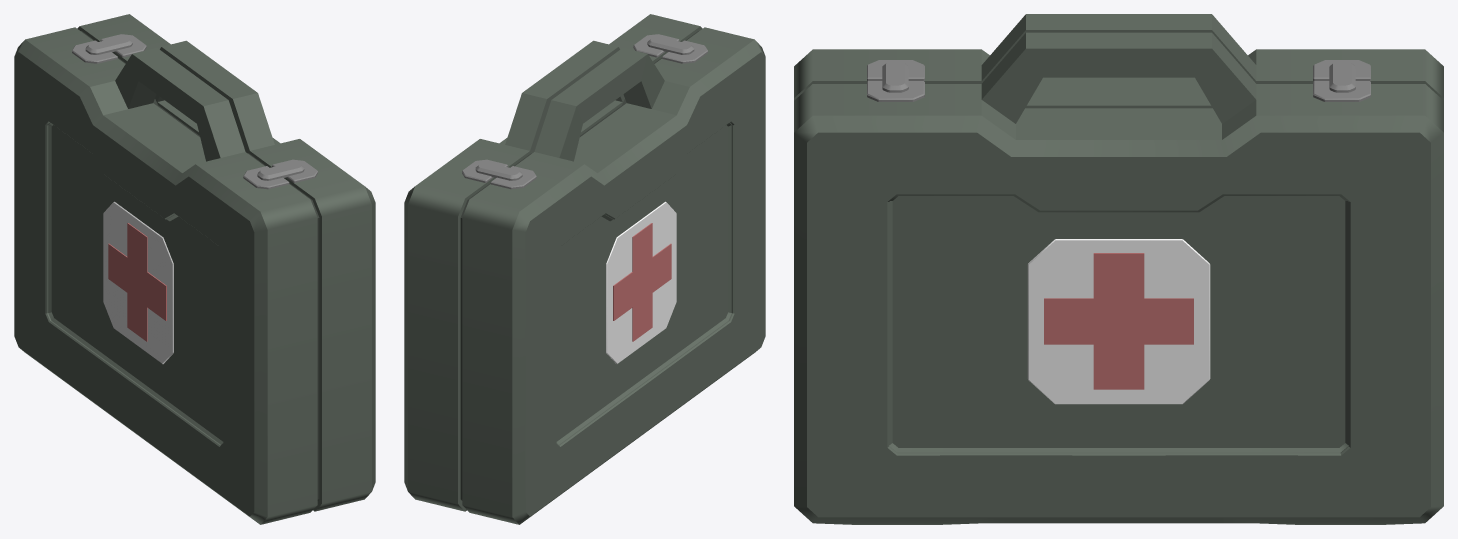
The model's file is Medkit.fbx.
3 views of the same model, side by side, from view 1: azimuth 30°, elevation 25°; view 2: azimuth 150°, elevation 25°; view 3: azimuth 270°, elevation 25° (orthographic). The views are drawn at different scales.
Parts seen in each view (by area): view 1: Medkit; view 2: Medkit; view 3: Medkit.
Part boxes in pixels (bbox=[...]): Medkit: bbox=[14, 14, 375, 524]; Medkit: bbox=[404, 14, 765, 524]; Medkit: bbox=[794, 14, 1443, 524].
Bounding box in the file's own units: 100 × 283 × 356.
